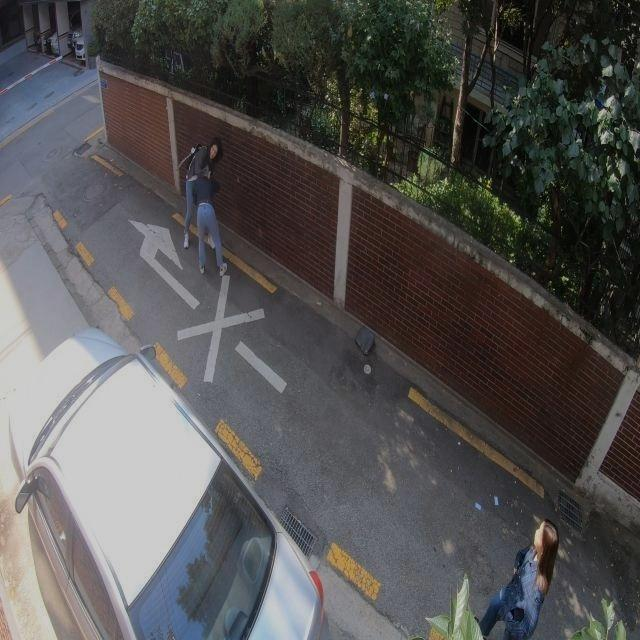fight: (176, 138, 226, 275)
non-fight: (474, 518, 559, 640)
